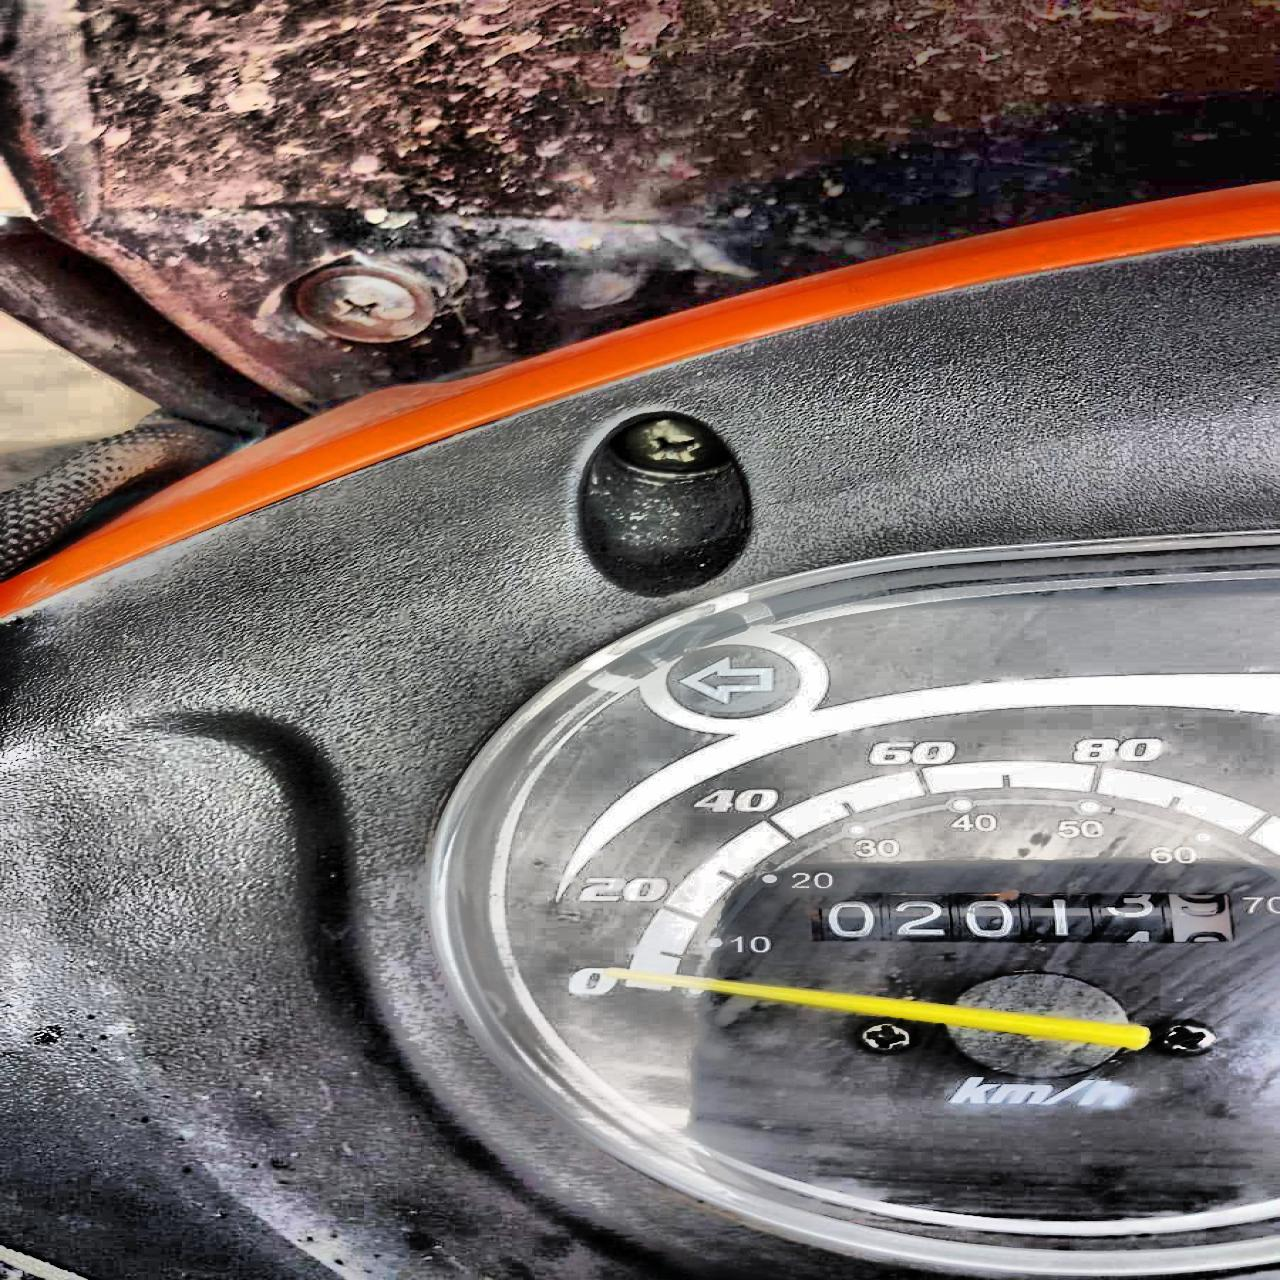0: (822, 899, 878, 939), (960, 899, 1014, 939)
1: (1042, 896, 1073, 937)
2: (888, 898, 947, 937)
3: (1099, 892, 1157, 918)
9: (1172, 891, 1227, 918)
odometer: (806, 891, 1235, 944)
